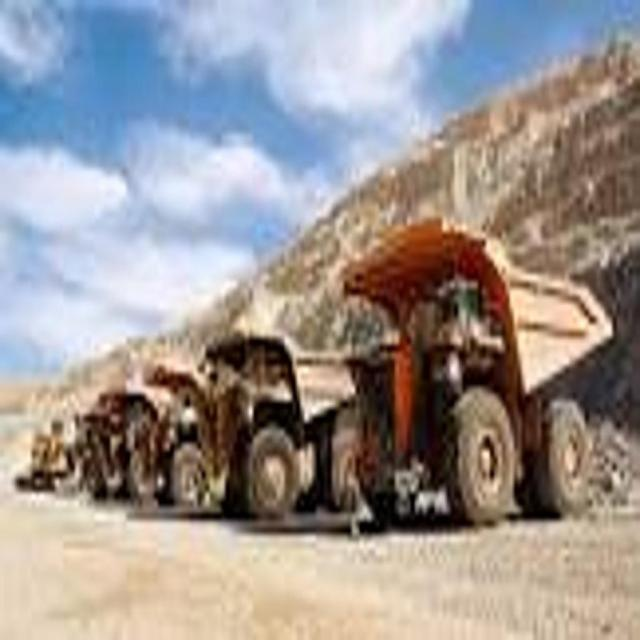dump_truck: (343, 213, 613, 534), (198, 316, 356, 516), (149, 338, 211, 503), (96, 377, 157, 511)
